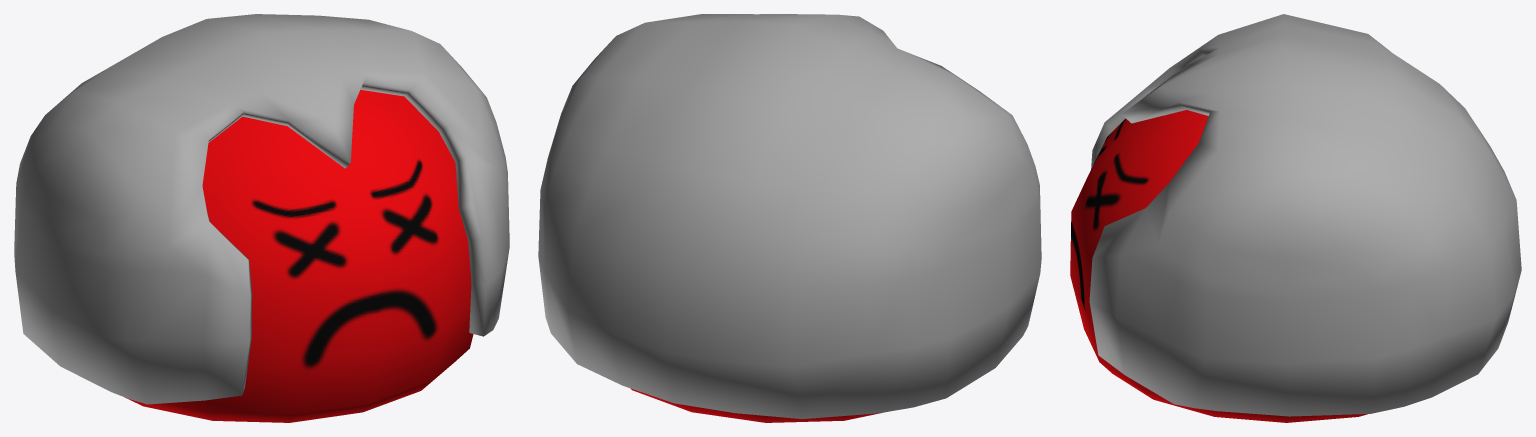
File: mini boss slime dead.fbx
The picture shows the model from 3 angles, left to right: view 1: azimuth 30°, elevation 25°; view 2: azimuth 150°, elevation 25°; view 3: azimuth 270°, elevation 25°; orthographic projection. The views are drawn at different scales.
Parts seen in each view (by area): view 1: helmet; view 2: helmet; view 3: helmet.
Part boxes in pixels (bbox=[...]): helmet: bbox=[14, 14, 509, 422]; helmet: bbox=[538, 14, 1041, 422]; helmet: bbox=[1070, 14, 1521, 422].
Size of the model in its own units: 5.03 by 3.65 by 4.84.
Materials: 2 (1 with a texture image).
